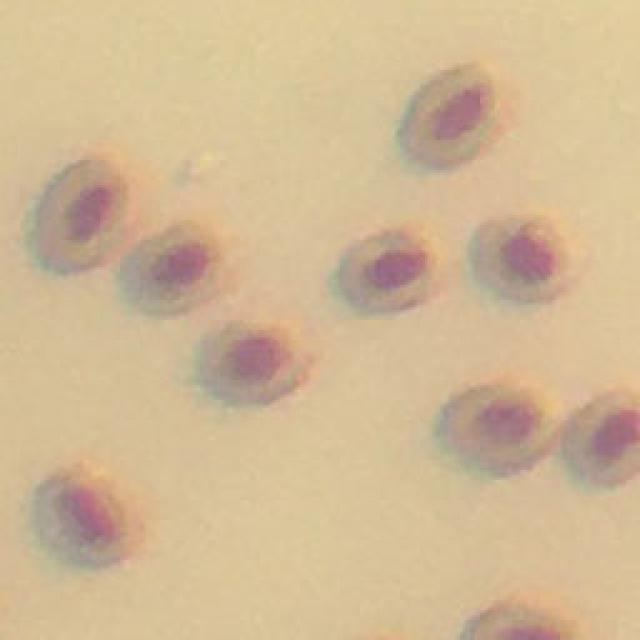RBC: (440, 382, 562, 478), (35, 160, 128, 275), (472, 215, 590, 304), (400, 65, 500, 170), (194, 322, 312, 409), (32, 465, 128, 569), (118, 222, 222, 318), (337, 225, 442, 315), (565, 392, 640, 488), (464, 605, 564, 640)
